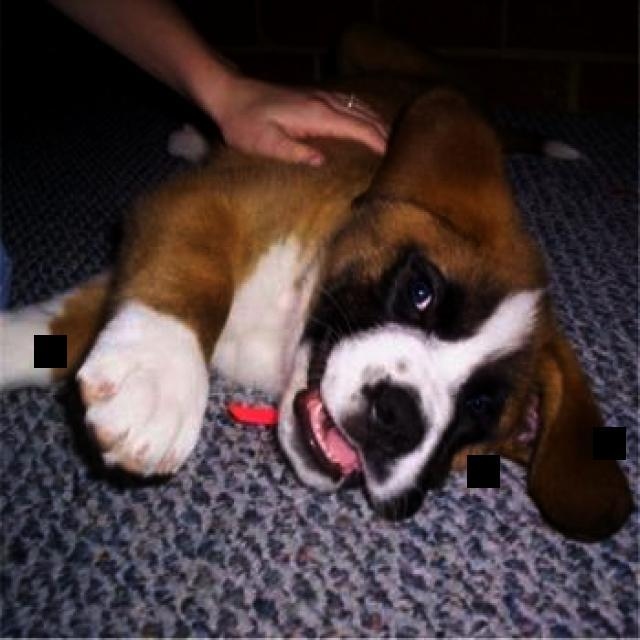non-dog: (32, 1, 396, 168)
puppy-dog: (2, 31, 637, 537)
